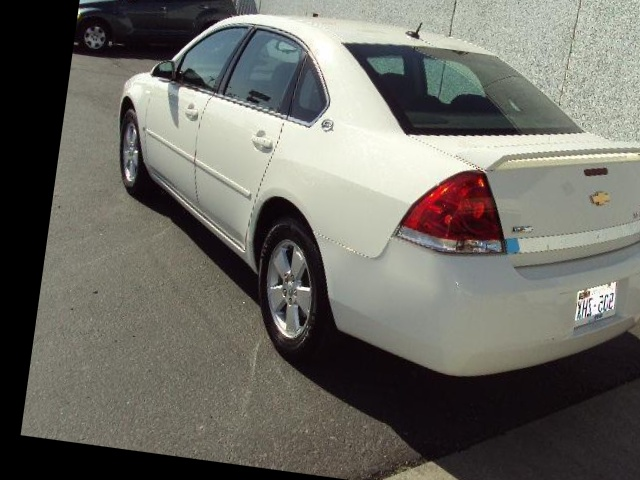car: (83, 0, 640, 420), (73, 0, 244, 70)
